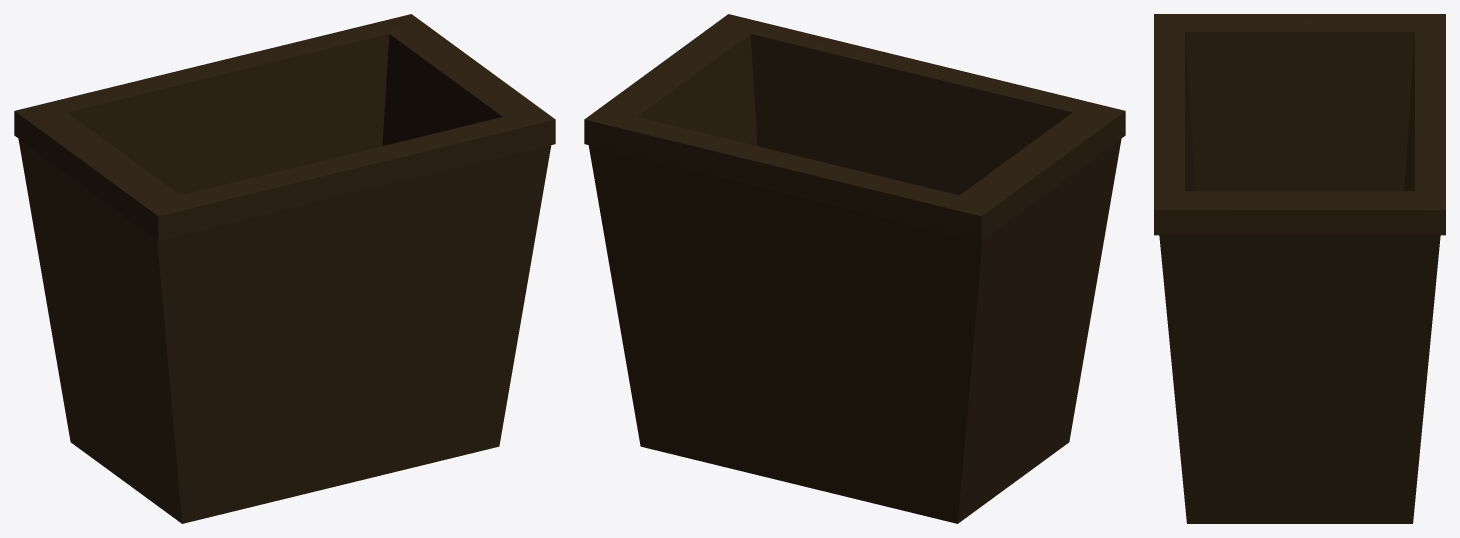
The model's file is Trashcan.fbx.
The picture shows the model from 3 angles, left to right: view 1: azimuth 30°, elevation 25°; view 2: azimuth 150°, elevation 25°; view 3: azimuth 270°, elevation 25°; orthographic projection.
Visible parts, largest first — view 1: pCube1; view 2: pCube1; view 3: pCube1.
Boxes of the visible parts, box(x1,y1,x2,y2) form: pCube1: box(14, 14, 555, 523); pCube1: box(584, 14, 1125, 523); pCube1: box(1154, 14, 1445, 523).
Size of the model in its own units: 30.84 by 24.47 by 19.38.
